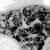node 1: (1, 30, 20, 50)
